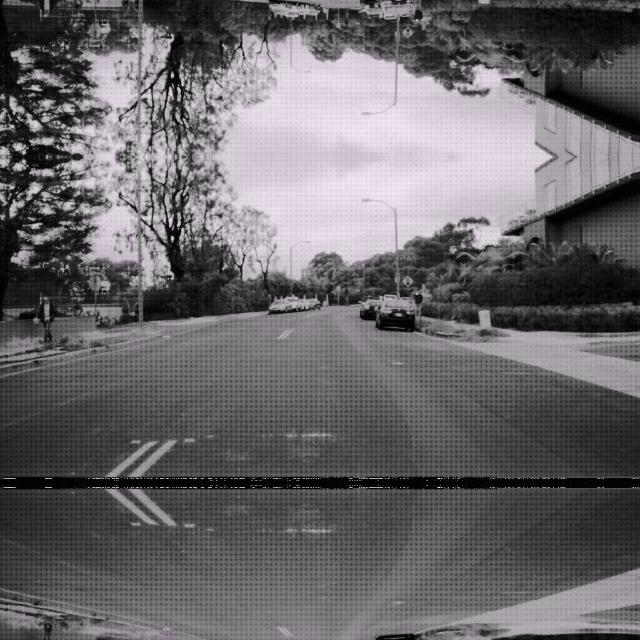signalAhead: (401, 273, 413, 285), (401, 27, 413, 39)
